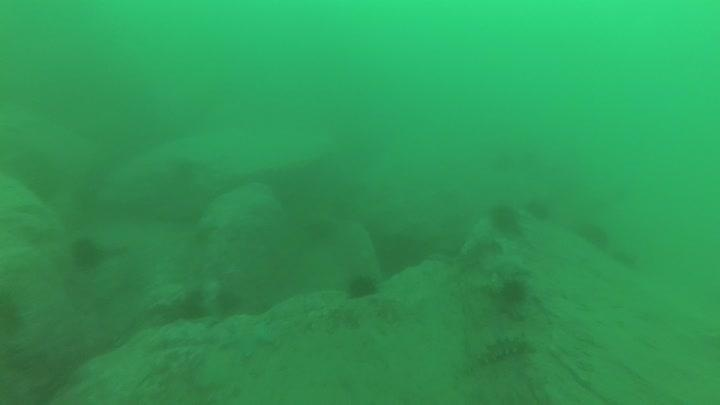echinus: (68, 235, 105, 272), (0, 290, 27, 340), (486, 201, 523, 236), (574, 219, 612, 251), (343, 271, 381, 302), (496, 275, 531, 308), (524, 195, 554, 223)
holothurian: (473, 333, 535, 367)
starfish: (219, 312, 277, 359)
